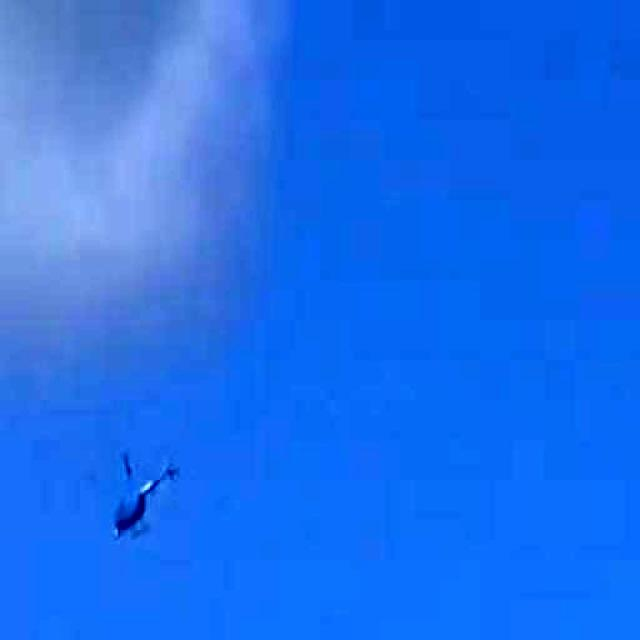drone: (66, 429, 204, 569)
